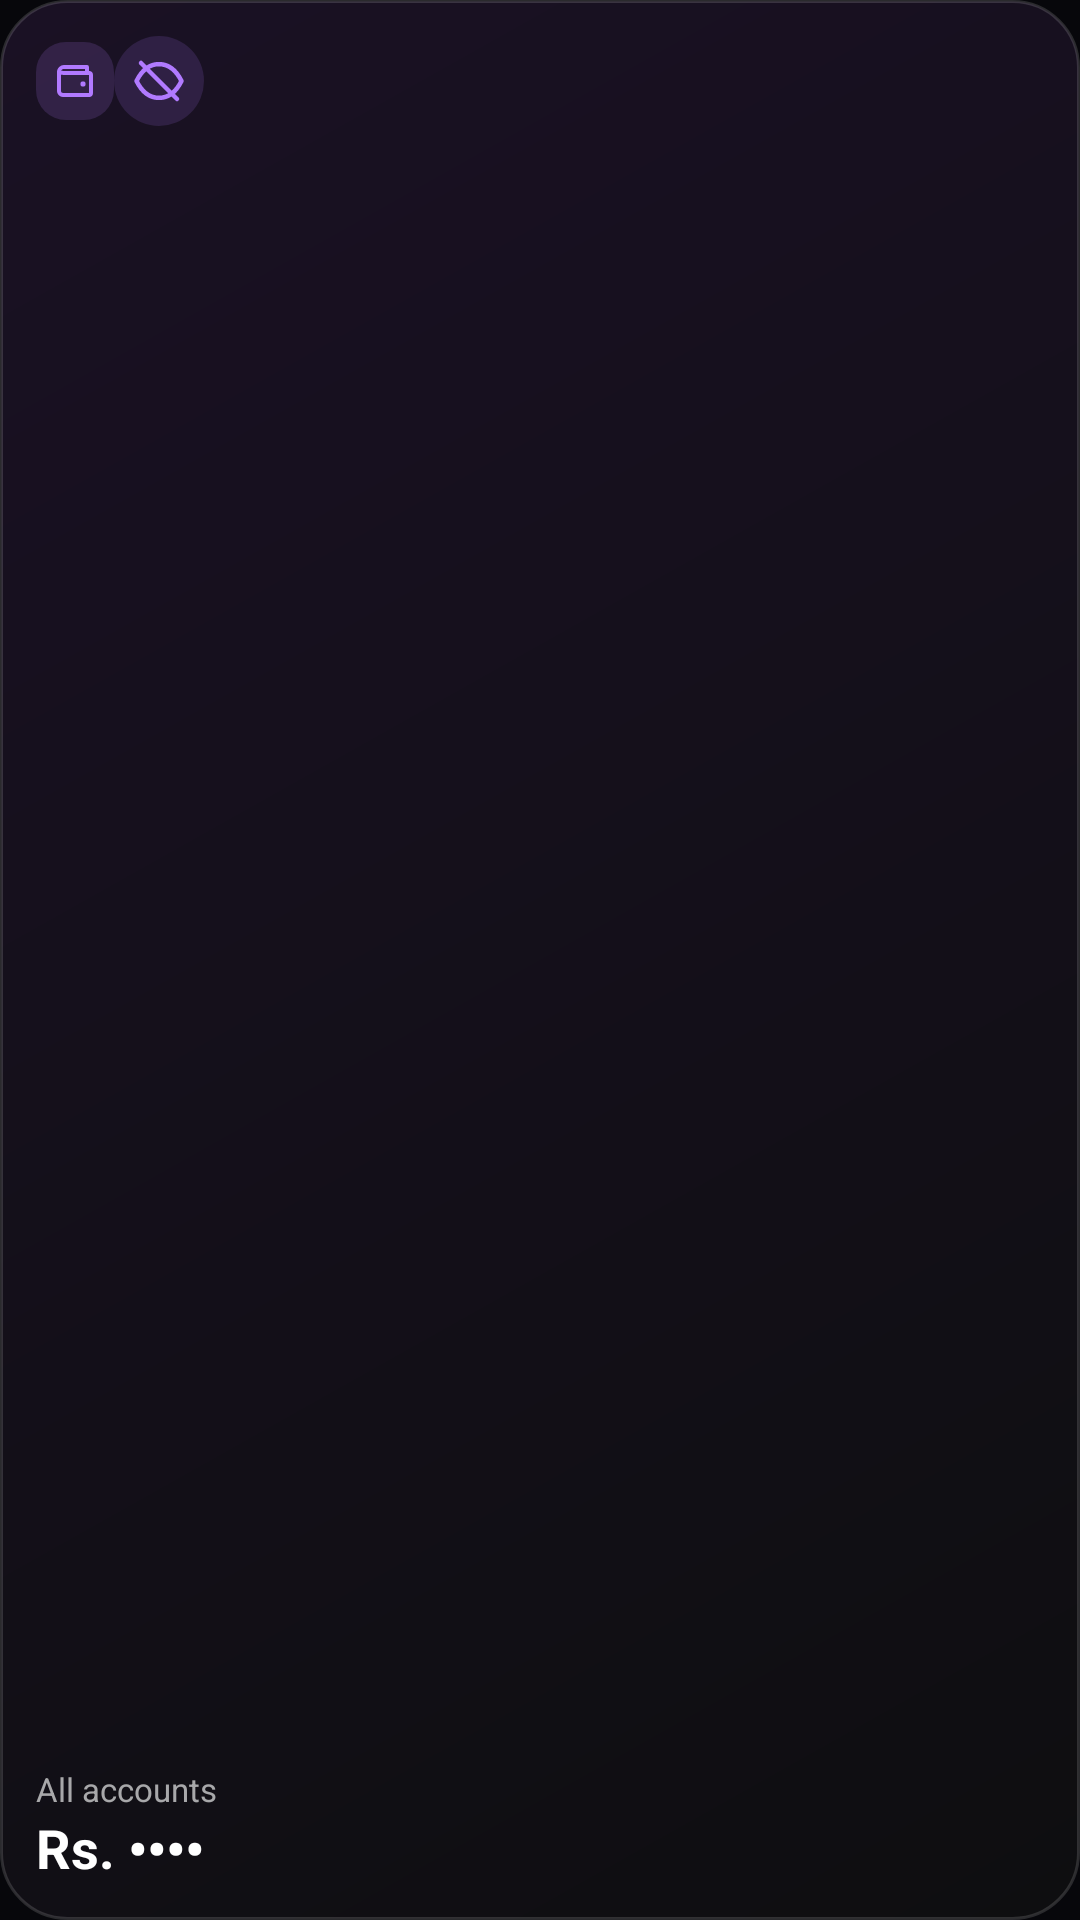

Icon click points for this 1080 x 1920 phone screenshot, format (x,y):
balances: (75,81)
Show amounts: (159,81)
